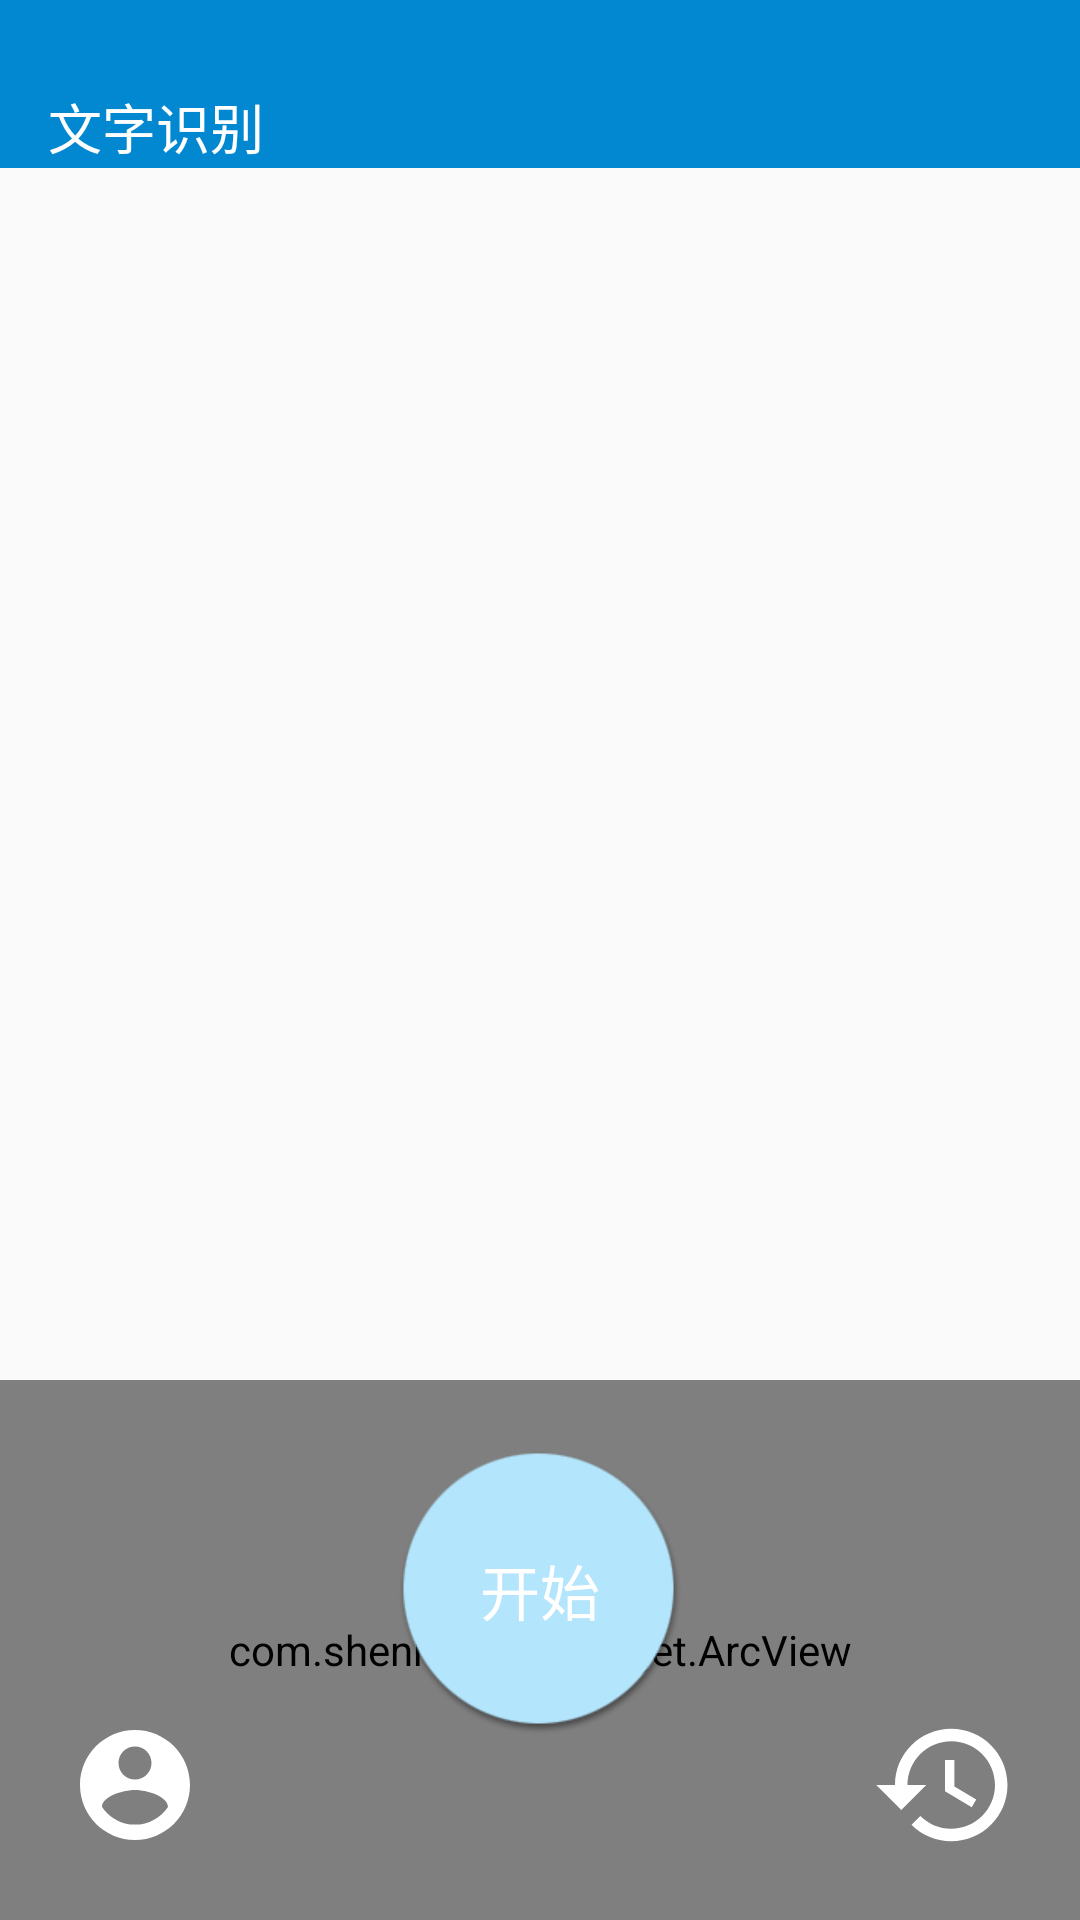

Where icons sit on this 1080w x 1920h app screen, as [x1=x1, y1=y1, x2=x2, y2=y2]:
home account: [x1=80, y1=1730, x2=190, y2=1840]
home history: [x1=876, y1=1728, x2=1008, y2=1842]
